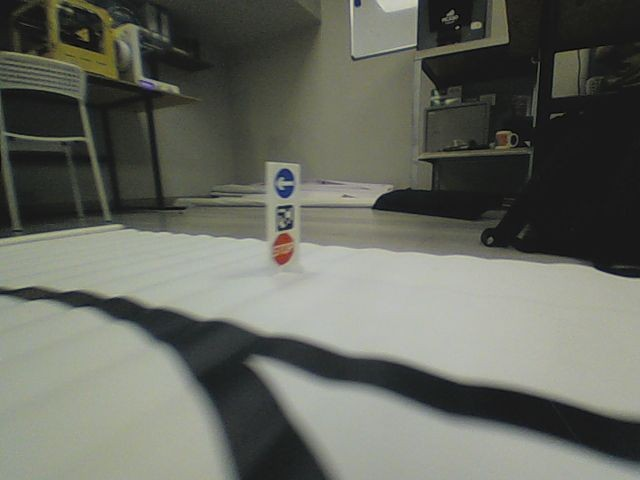Stop: (270, 231, 295, 266)
